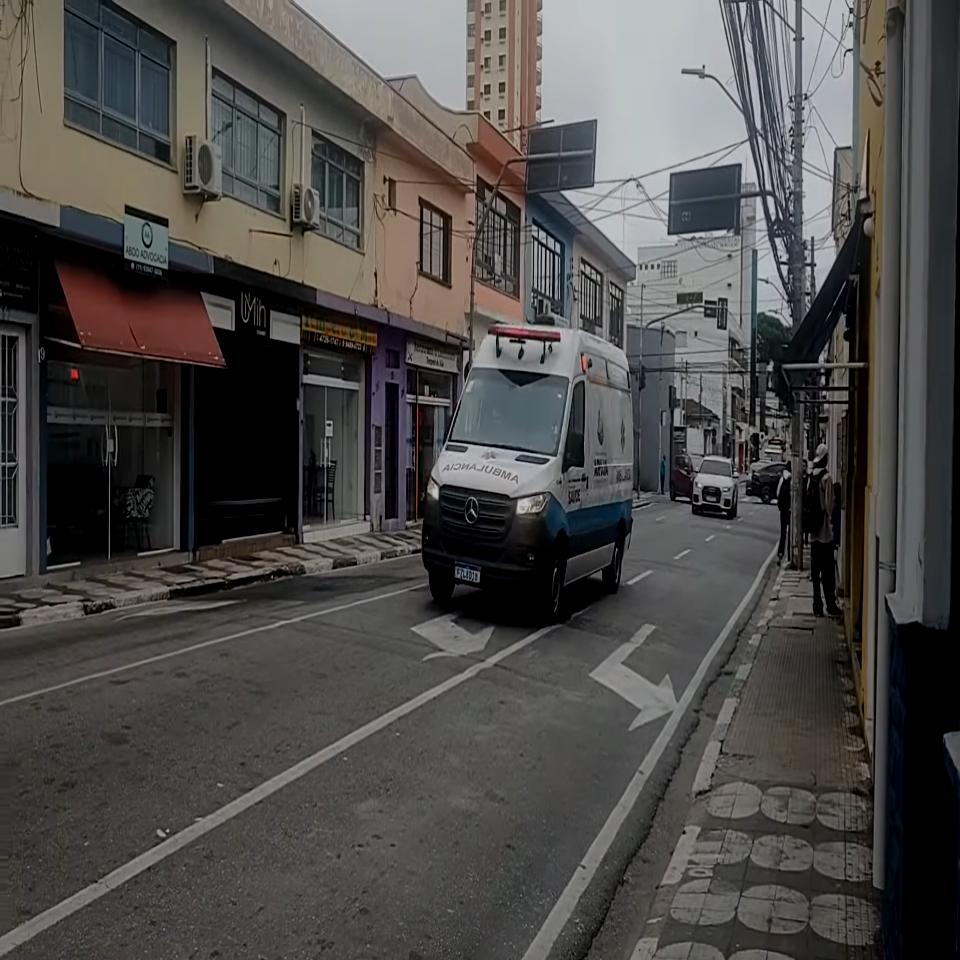ambulancia: (421, 322, 634, 626)
